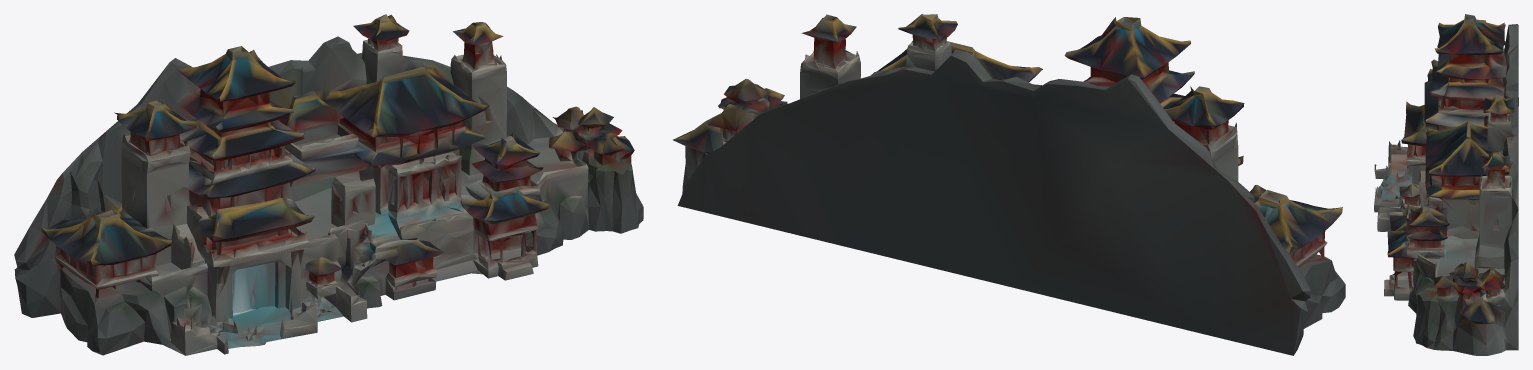
File: cliff_palace.vc.glb
The picture shows the model from 3 angles, left to right: view 1: azimuth 30°, elevation 25°; view 2: azimuth 150°, elevation 25°; view 3: azimuth 270°, elevation 25°; orthographic projection. The views are drawn at different scales.
Visible parts, largest first — view 1: cliff_palace; view 2: cliff_palace; view 3: cliff_palace.
Part boxes in pixels (x1,y1,x2,y2): cliff_palace: (14, 14, 643, 355); cliff_palace: (673, 14, 1345, 355); cliff_palace: (1374, 14, 1518, 355).
Bounding box in the file's own units: 1.9 × 0.74 × 0.5149.
